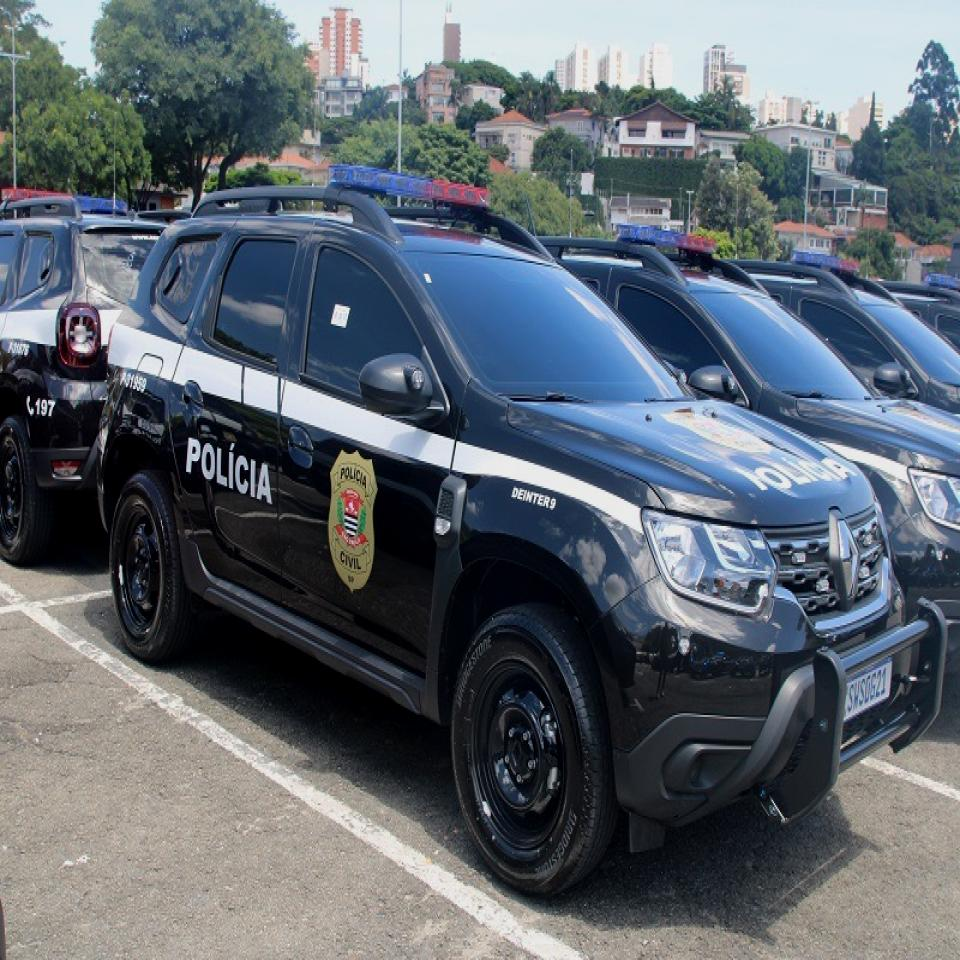viatura: (98, 166, 947, 892)
